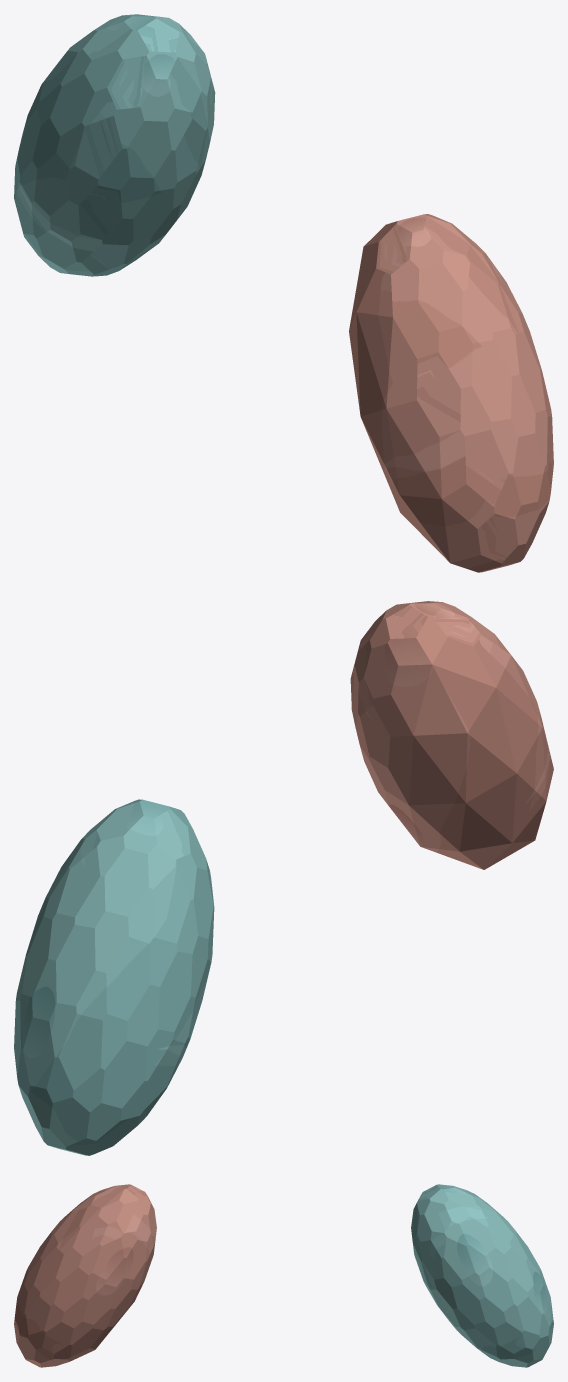
File: MainCharA.obj
The picture shows the model from 3 angles, top to bottom: view 1: azimuth 30°, elevation 25°; view 2: azimuth 150°, elevation 25°; view 3: azimuth 270°, elevation 25°; orthographic projection. The views are drawn at different scales.
Visible parts, largest first — view 1: Icosphere.004, Icosphere.003; view 2: Icosphere.003, Icosphere.004; view 3: Icosphere.004, Icosphere.003.
Boxes of the visible parts, x1=… form: Icosphere.004: x1=349, y1=214, x2=553, y2=572; Icosphere.003: x1=14, y1=14, x2=215, y2=276; Icosphere.003: x1=14, y1=799, x2=214, y2=1155; Icosphere.004: x1=350, y1=601, x2=553, y2=869; Icosphere.004: x1=14, y1=1184, x2=156, y2=1367; Icosphere.003: x1=411, y1=1184, x2=553, y2=1367.
Size of the model in its own units: 0.9511 by 1.73 by 4.76.
Materials: 2 (2 with a texture image).
